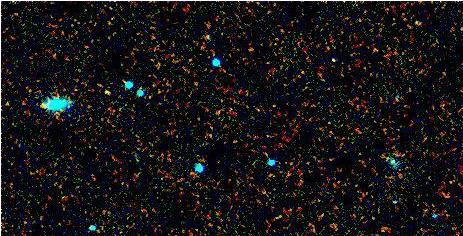star: (93, 76, 123, 106)
